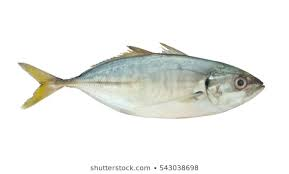Ikan Selar: (18, 53, 265, 119)
